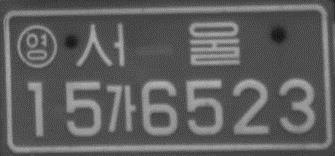1: (23, 79, 50, 141)
2: (231, 78, 270, 136)
3: (276, 76, 316, 135)
5: (63, 79, 103, 139), (184, 76, 224, 136)
6: (140, 78, 179, 136)
가: (104, 83, 139, 134)
서울_D: (73, 19, 245, 69)
영: (16, 22, 58, 68)
